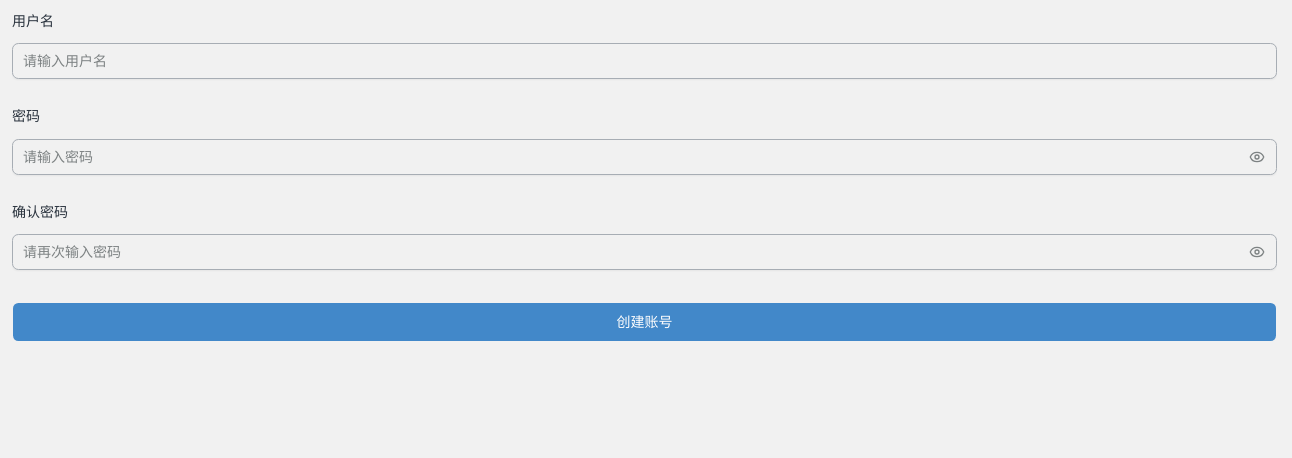
Test case: RegisterForm › maps registration failures to login.registerErrorInvalidUsername
Type "new_user" into the field labelled "用户名".
click(644, 61); type("new_user")  # box [12,43,1277,79]
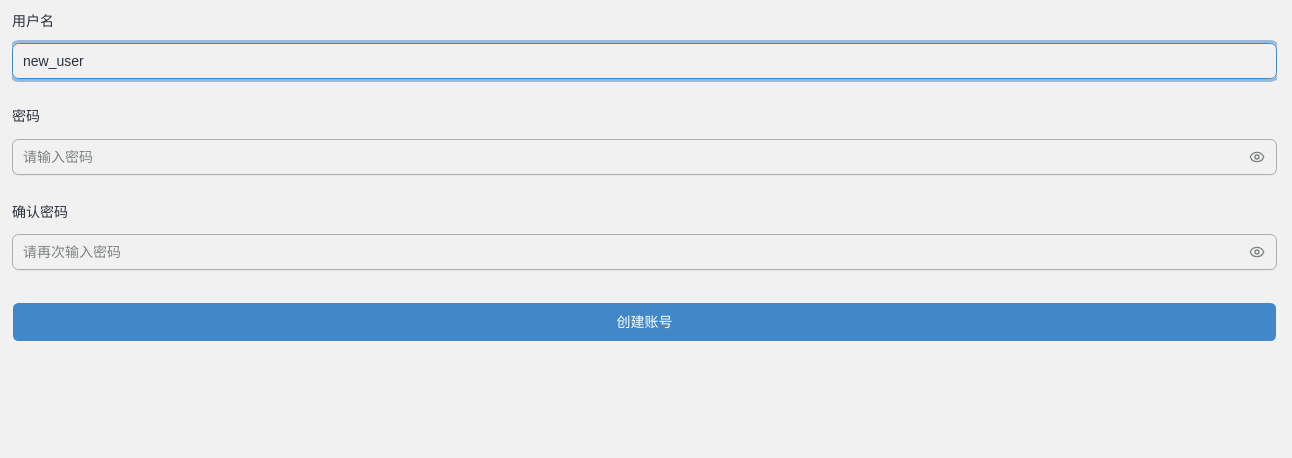
Type "Correct123!" into the password field labelled "密码".
click(644, 156); type("Correct123!")  # box [12,138,1277,174]
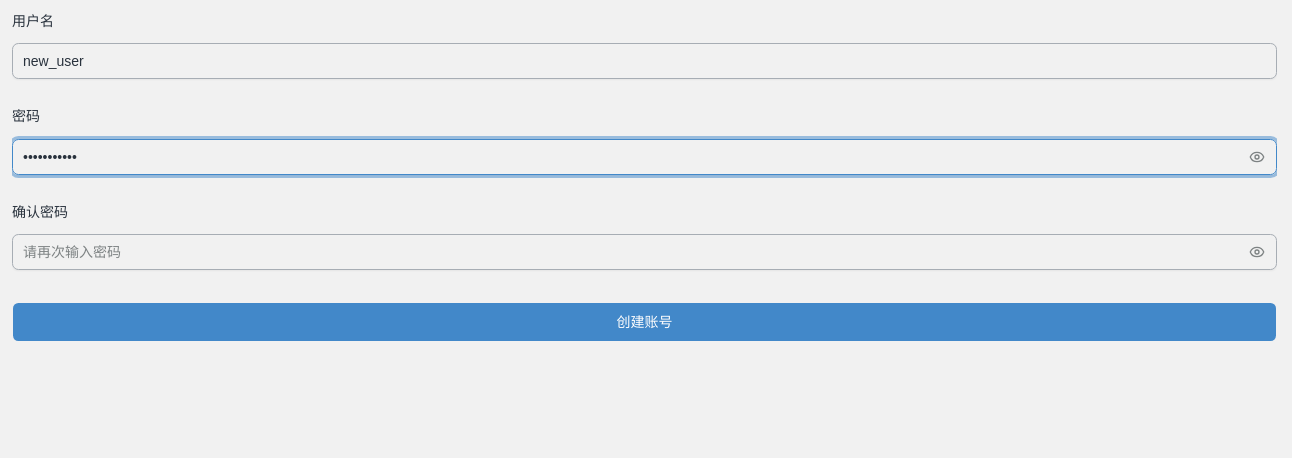
Type "Correct123!" into the password field labelled "确认密码".
click(644, 252); type("Correct123!")  # box [12,234,1277,270]
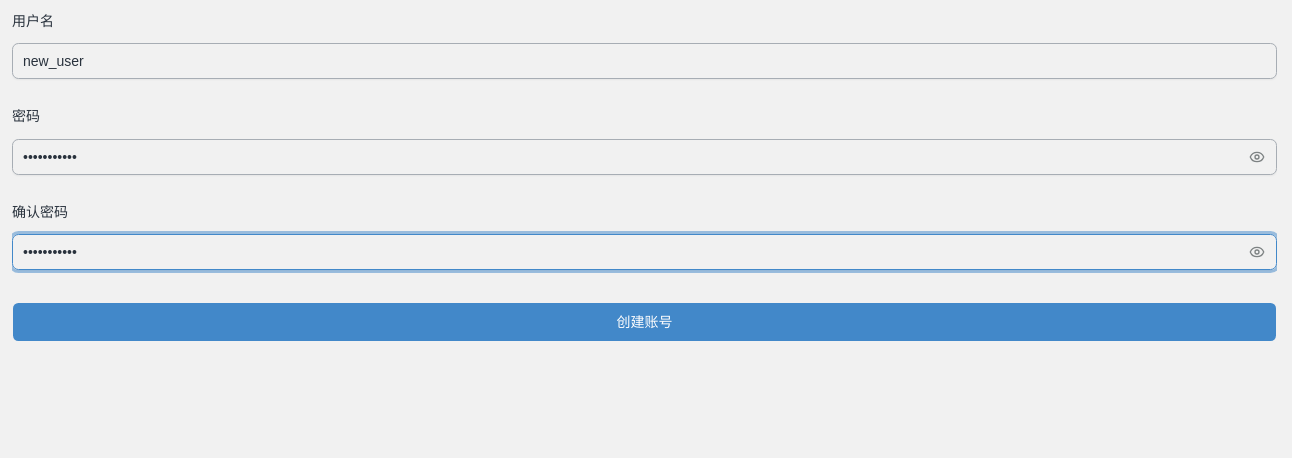
Click the button "创建账号".
click(644, 322)  # box [12,302,1277,342]
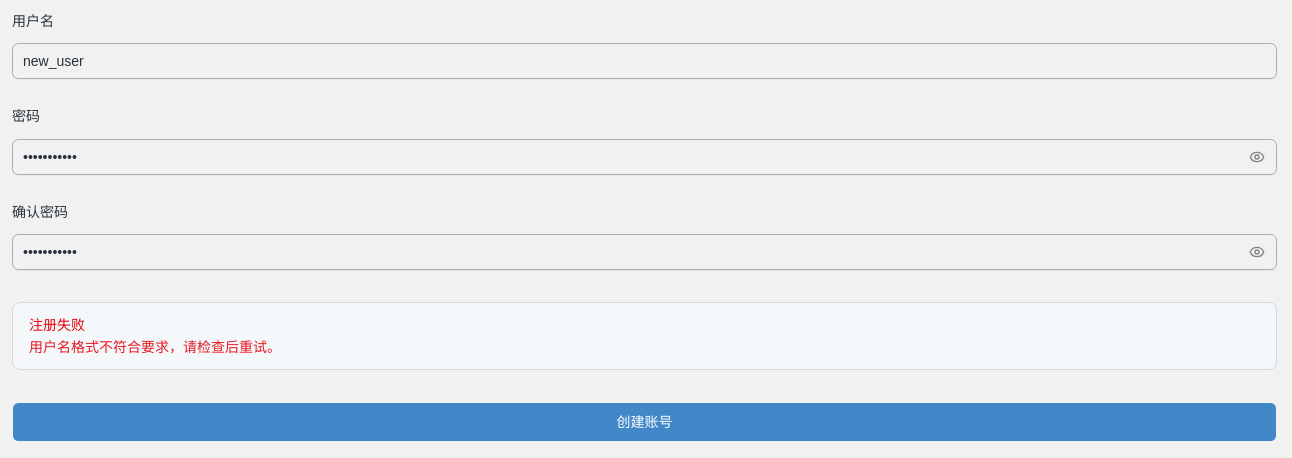
Now the text "注册失败" is shown, box [29,317,85,333]
Now the text "用户名格式不符合要求，请检查后重试。" is shown, box [29,339,281,355]
